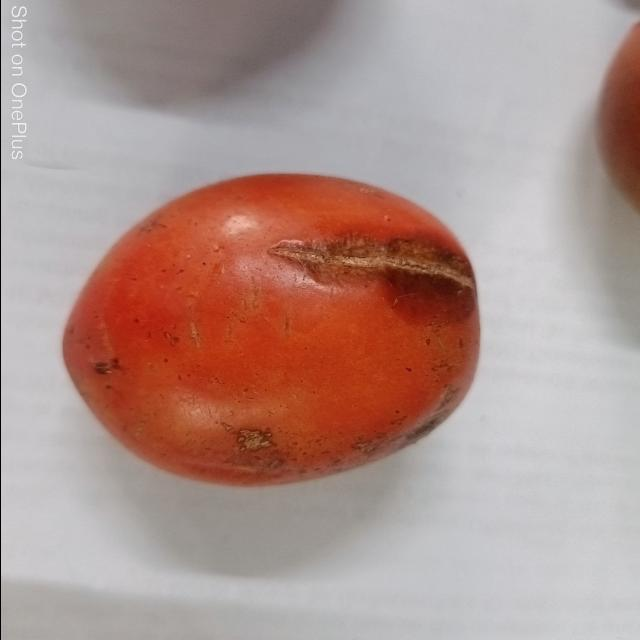tomato_cracking: (252, 230, 484, 312)
